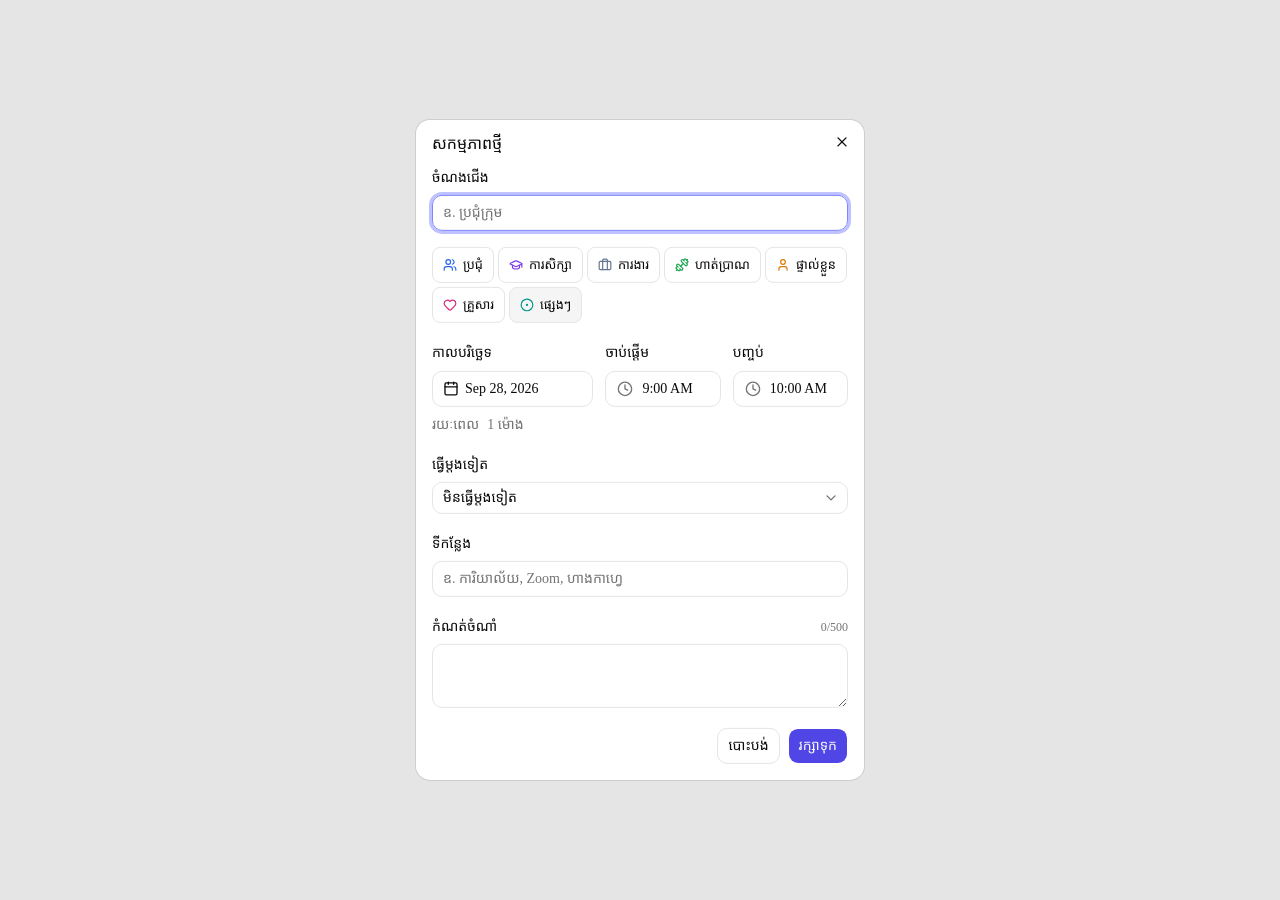
ActivityFormDialog › shows validation in Khmer
Click the button "រក្សាទុក".
click(818, 746)  # box left=788, top=728, right=848, bottom=764
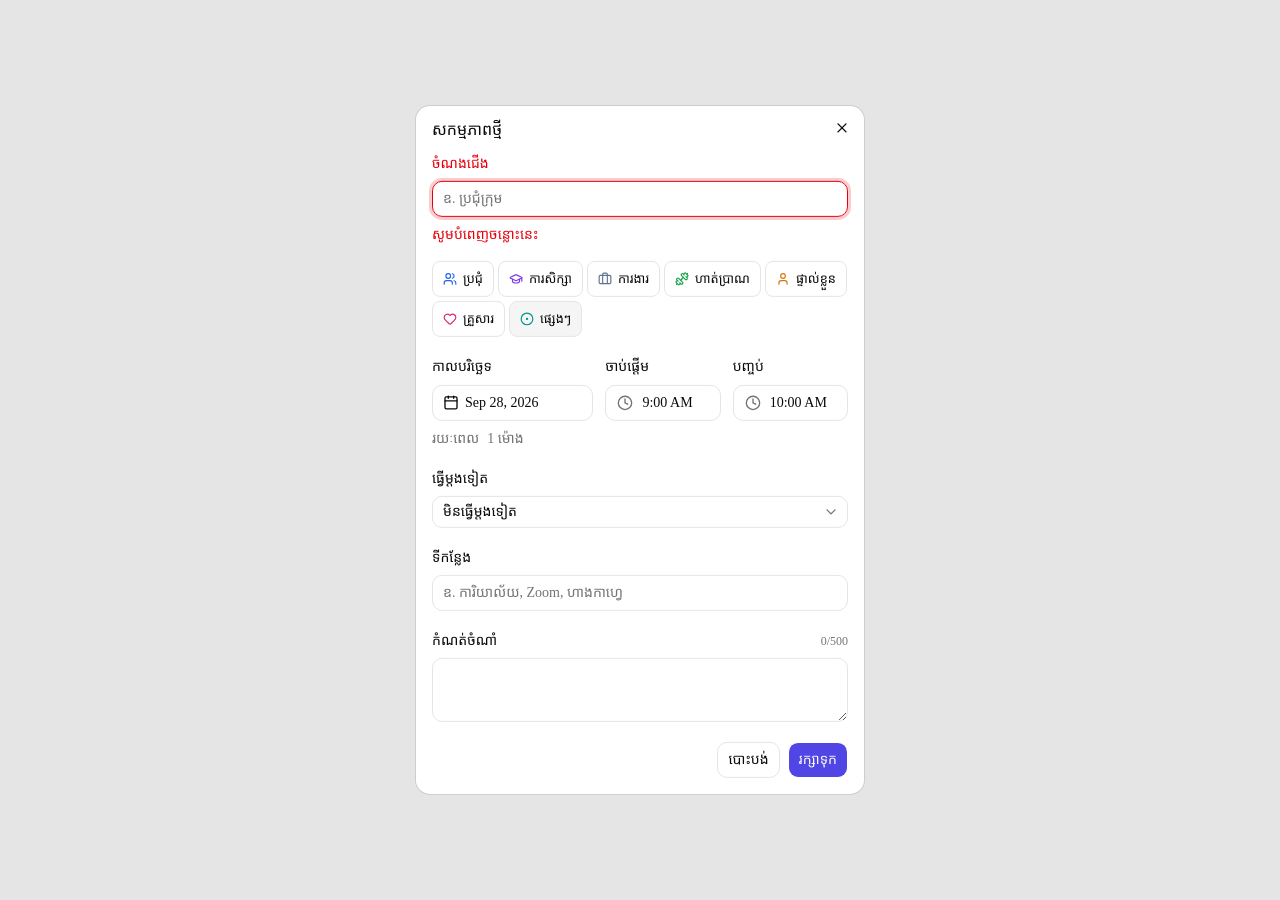
Expected: the text "សូមបំពេញចន្លោះនេះ" is shown, left=432, top=227, right=538, bottom=242
